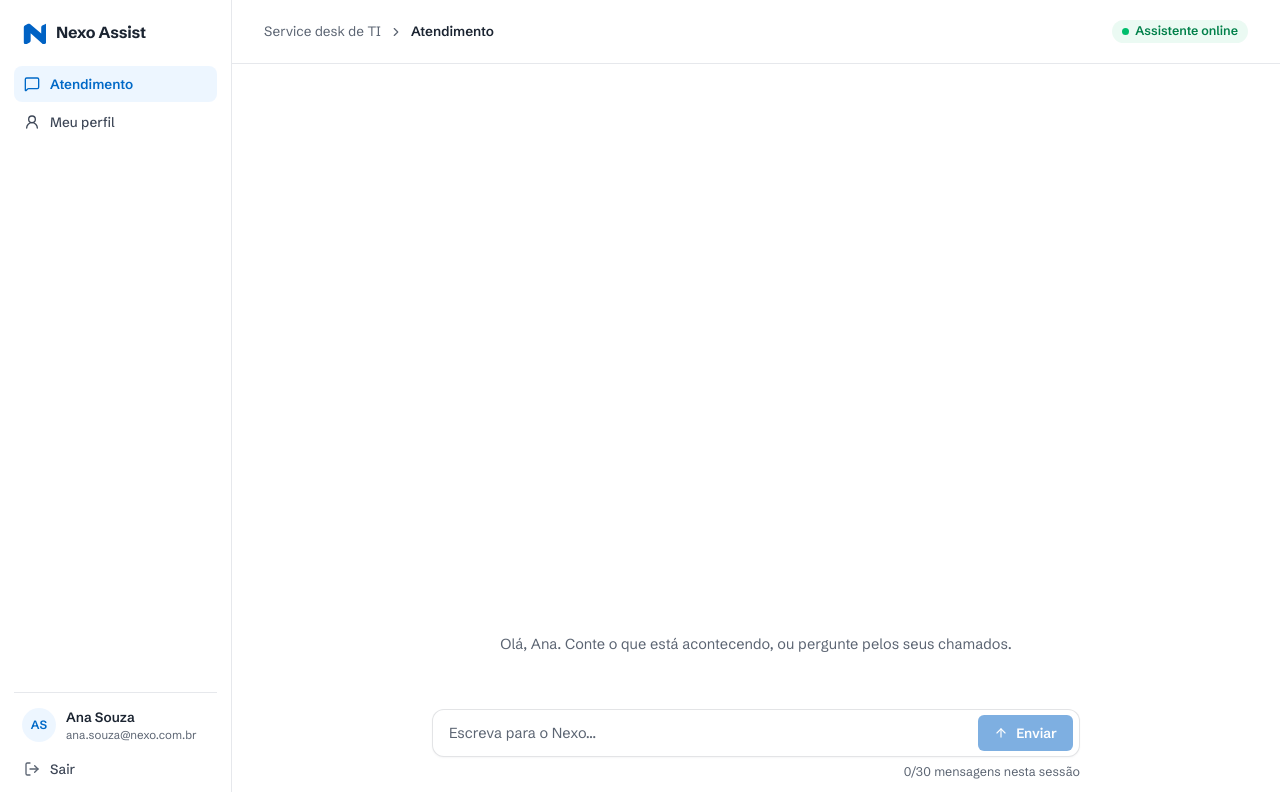
sessão expirada (10.3) › um 401 no envio da mensagem (o stream) também volta ao login com o aviso
Type "Oi" into the field named "Mensagem para o Nexo" at (710, 733), box [449, 710, 970, 756]
Then press Enter
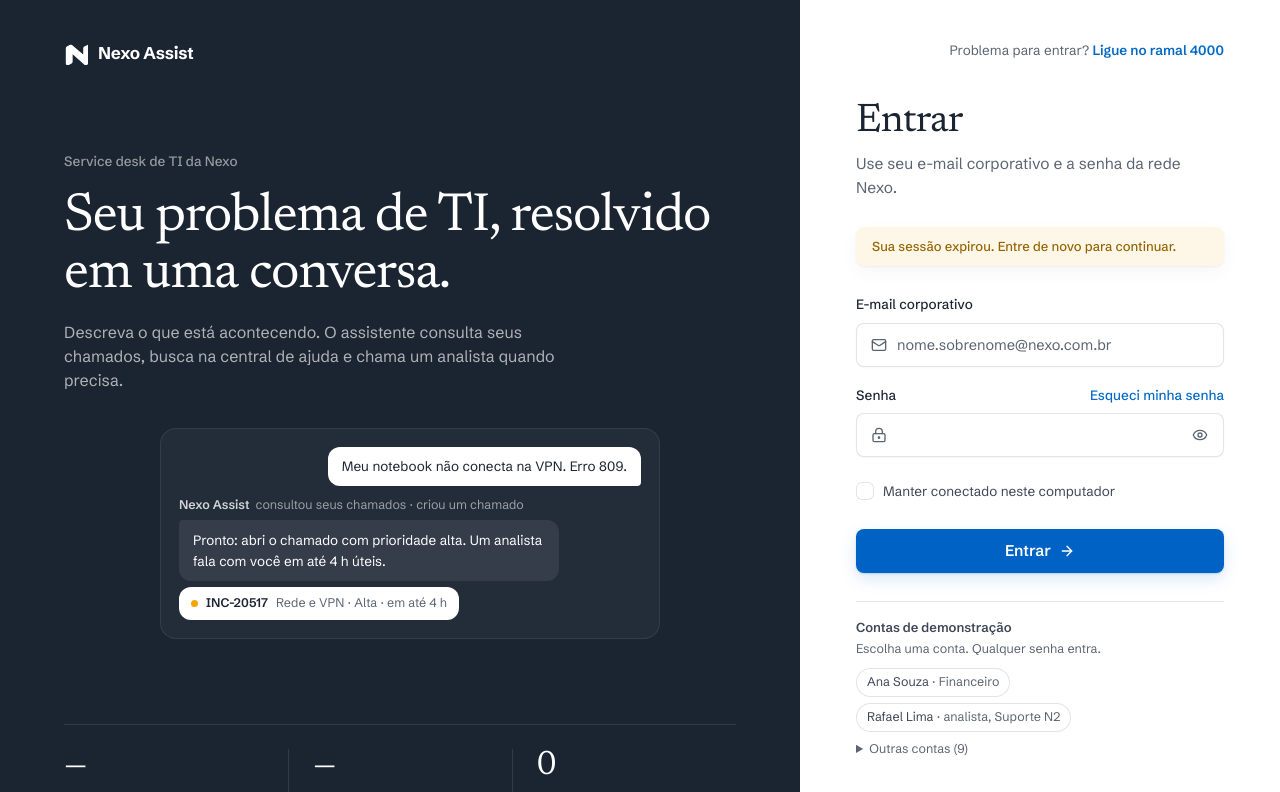
Result: the text "Sua sessão expirou. Entre de novo para continuar." is shown at [856, 227, 1224, 266]
Result: the heading "Entrar" is shown at [856, 102, 963, 142]
